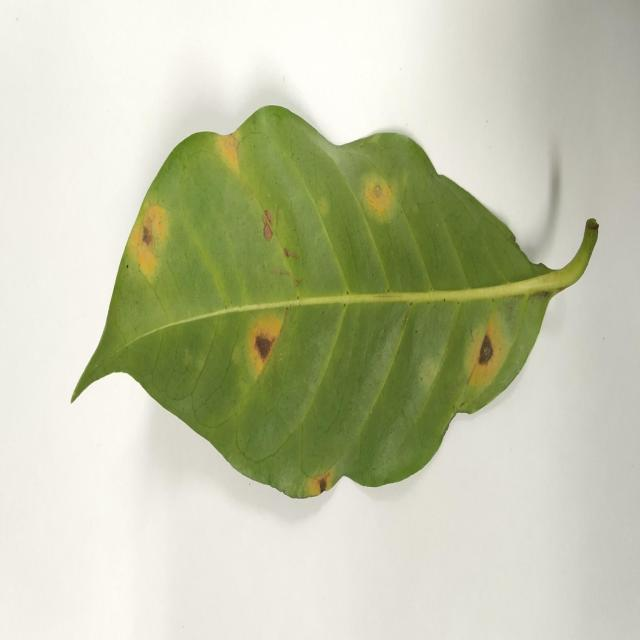Enfermedad-Roya: (70, 106, 599, 503)
